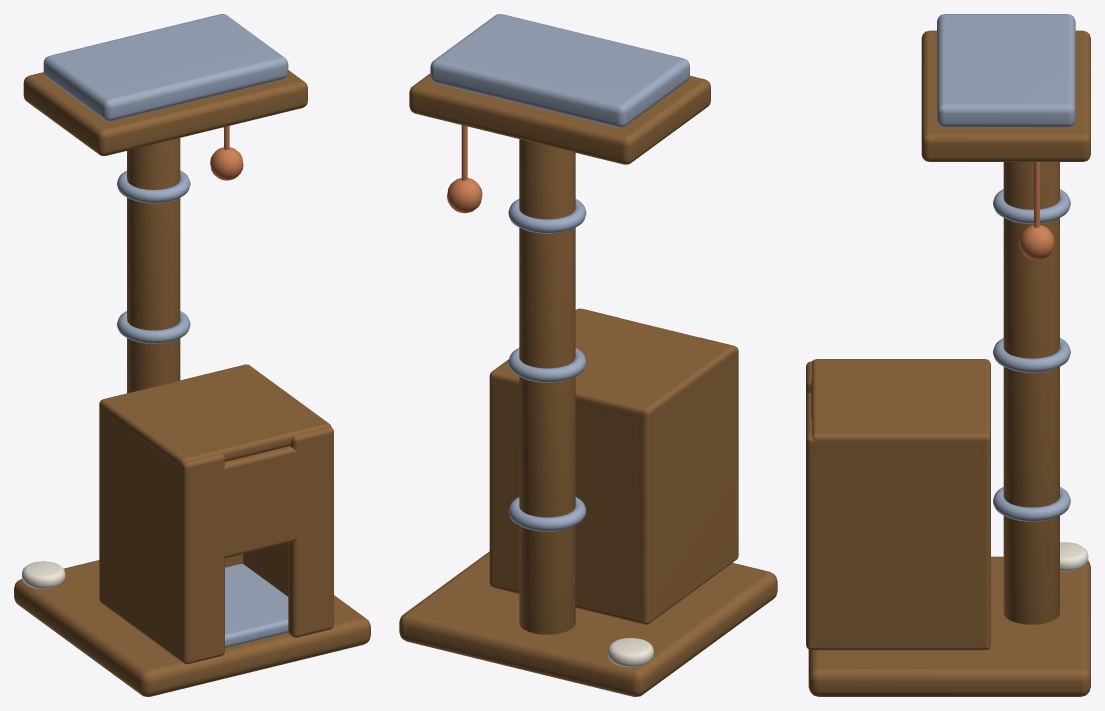
Rendered from cat_tree.glb.
The picture shows the model from 3 angles, left to right: view 1: azimuth 30°, elevation 25°; view 2: azimuth 150°, elevation 25°; view 3: azimuth 270°, elevation 25°; orthographic projection. The views are drawn at different scales.
Visible parts, largest first — view 1: Cubby side, Platform cushion, Tree base, Cubby roof, Tree post, Cubby lintel, Top platform, Cubby panel.001, Cubby panel, Cubby pad, Cubby side.001, Post wrap.002 (+4 smaller); view 2: Tree post, Tree base, Cubby back, Cubby side, Platform cushion, Cubby roof, Top platform, Cubby side.001, Post wrap, Post wrap.001, Post wrap.002, Water dish (+1 smaller); view 3: Cubby side.001, Tree post, Tree base, Platform cushion, Cubby roof, Top platform, Cubby back, Post wrap.001, Post wrap, Post wrap.002, Toy ball, Water dish (+1 smaller).
Part boxes in pixels (x1,y1,x2,y2): Cubby side: (99,406,193,664); Platform cushion: (43,14,288,121); Tree base: (14,560,370,696); Cubby roof: (99,364,331,467); Tree post: (127,138,180,393); Cubby lintel: (180,446,332,564); Top platform: (23,70,307,155); Cubby panel.001: (288,427,333,637); Cubby panel: (181,453,224,663); Cubby pad: (225,564,288,647); Cubby side.001: (243,427,333,629); Post wrap.002: (117,170,190,203); Tree post: (519,139,575,634); Tree base: (399,551,777,696); Cubby back: (489,378,653,624); Cubby side: (639,345,738,624); Platform cushion: (430,14,689,127); Cubby roof: (489,308,735,418); Top platform: (409,73,710,164); Cubby side.001: (489,309,586,588); Post wrap: (508,497,586,531); Post wrap.001: (508,348,586,382); Post wrap.002: (508,199,586,233); Water dish: (607,638,653,667); Cubby side.001: (806,434,990,650); Tree post: (1003,162,1059,624); Tree base: (808,556,1090,696); Platform cushion: (937,14,1075,127); Cubby roof: (811,359,990,444); Top platform: (921,30,1090,161); Cubby back: (980,440,990,650); Post wrap.001: (993,338,1070,372); Post wrap: (993,487,1070,521); Post wrap.002: (993,189,1070,223); Toy ball: (1019,225,1054,260); Water dish: (1060,542,1088,571).
Bounding box in the file's own units: 0.55 × 1.25 × 0.555.
